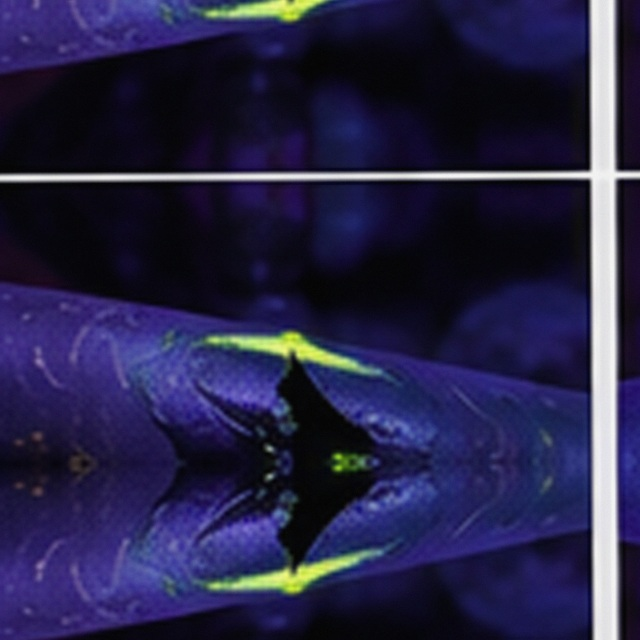hydraulic_oil_leak: (200, 331, 357, 372), (209, 551, 358, 593), (333, 453, 364, 471), (361, 367, 378, 374), (364, 550, 379, 553), (286, 406, 289, 411), (286, 514, 289, 518)
